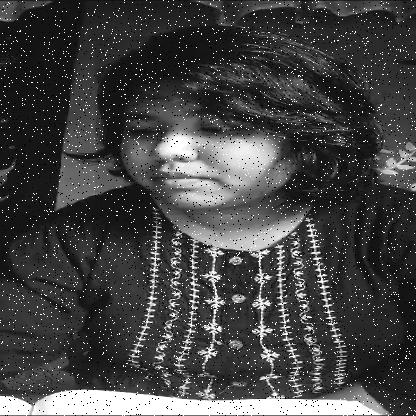Distracted: (95, 36, 337, 215)
